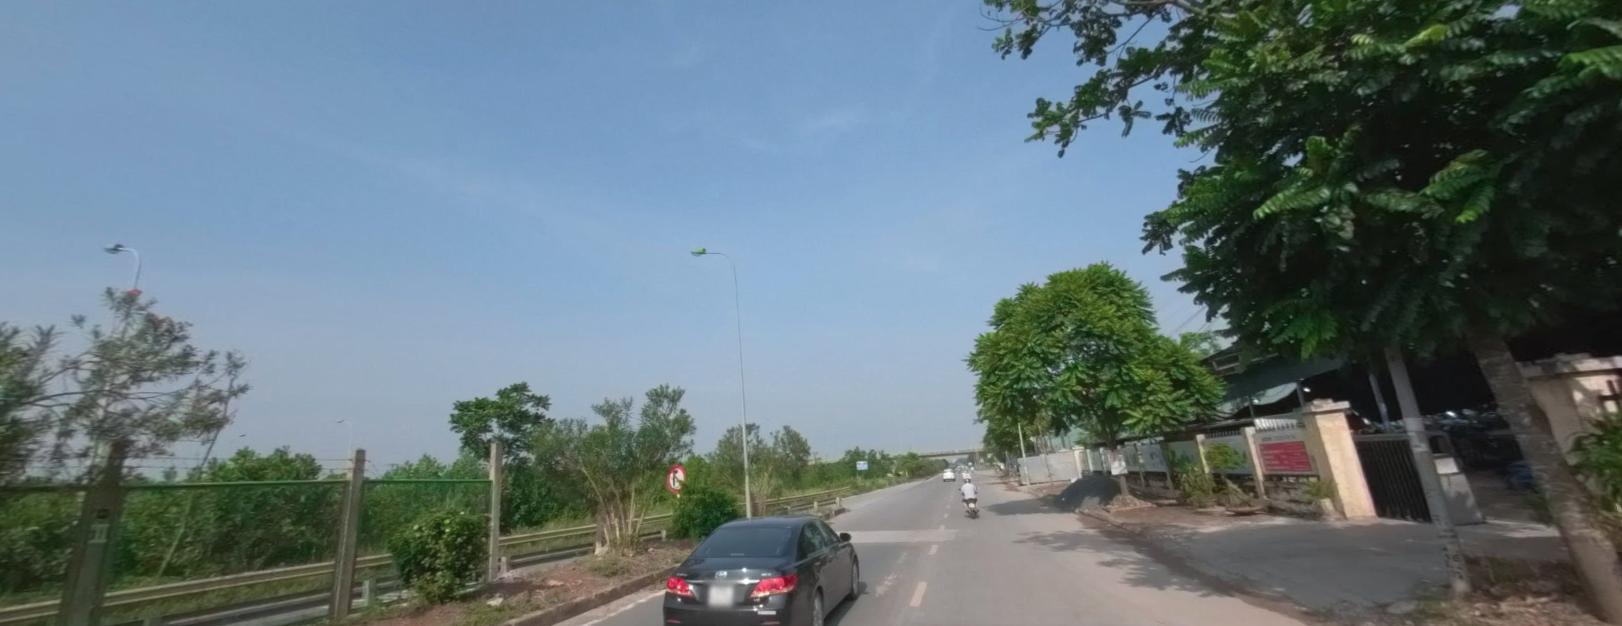Cam re: (665, 463, 687, 492)
